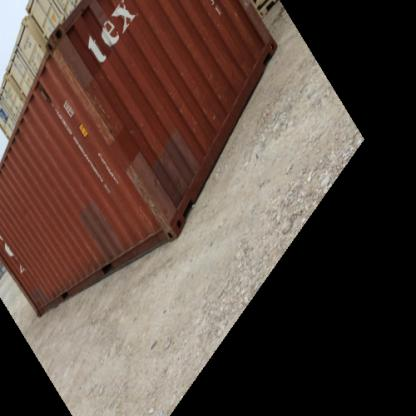Damage: (123, 146, 174, 235), (79, 81, 131, 138), (51, 24, 86, 87), (199, 97, 222, 125)
